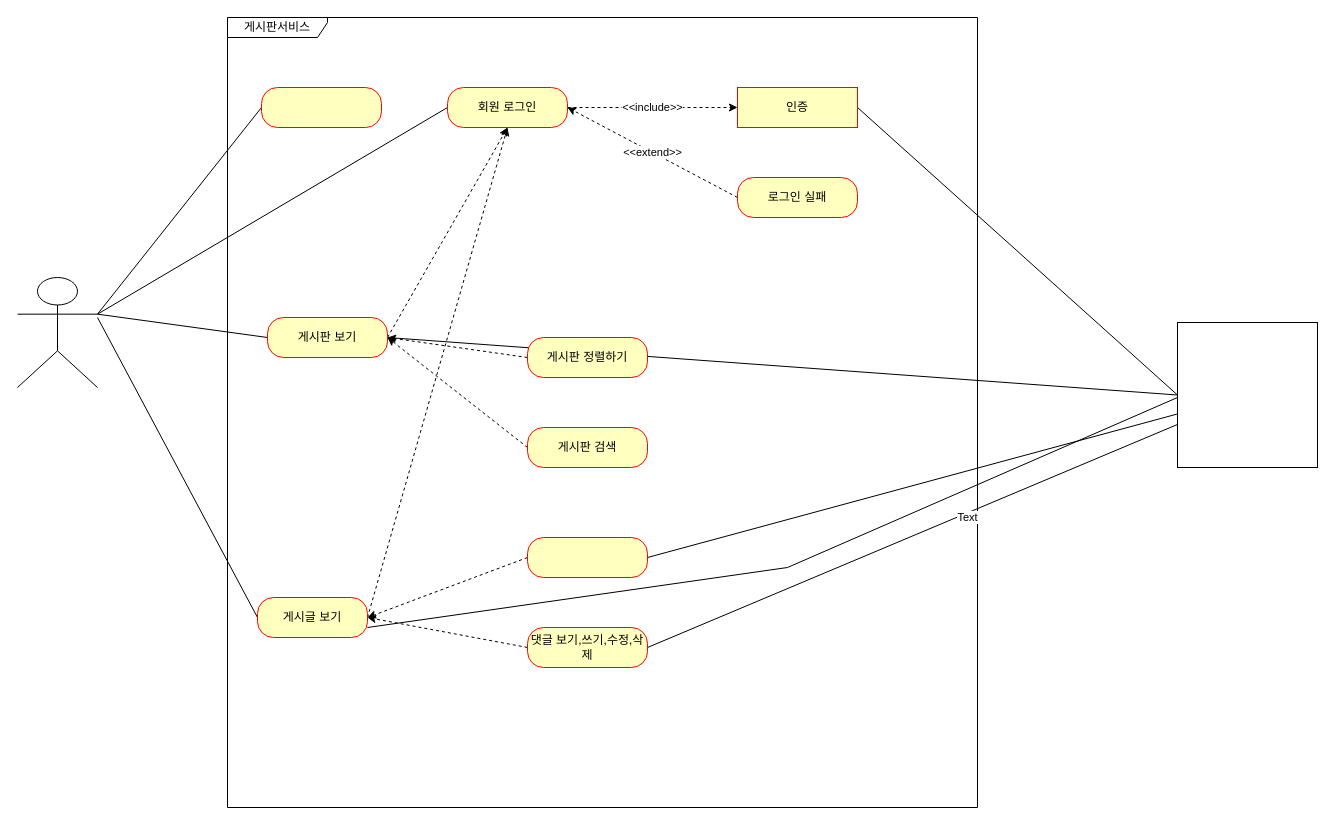
This 1335x825 diagram has some shape labels left out. The shapes that lost their labels are listed below. From the top down, each one's centre as x and y in pixels, then its label:
At (x=321, y=107): "회원 가입".
At (x=57, y=332): "이용자".
At (x=1247, y=395): "DB".
At (x=587, y=557): "게시글 쓰기, 수정, 삭제".
